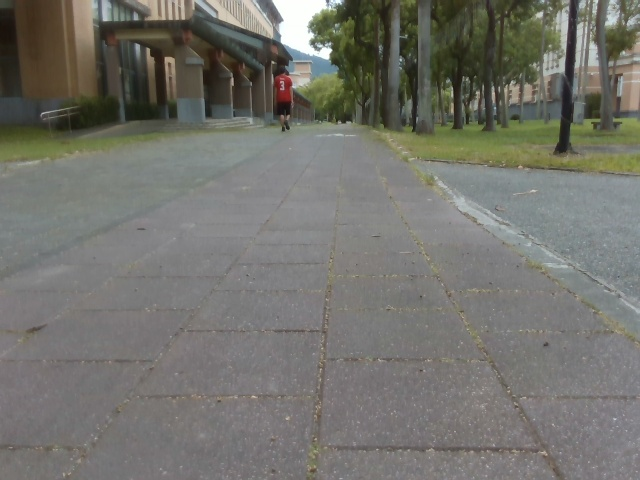grass: (296, 0, 639, 155), (370, 119, 639, 175), (0, 127, 245, 162)
road: (0, 123, 639, 479)
